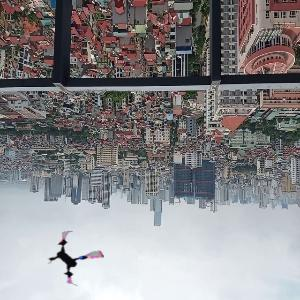drone: (46, 229, 105, 288)
